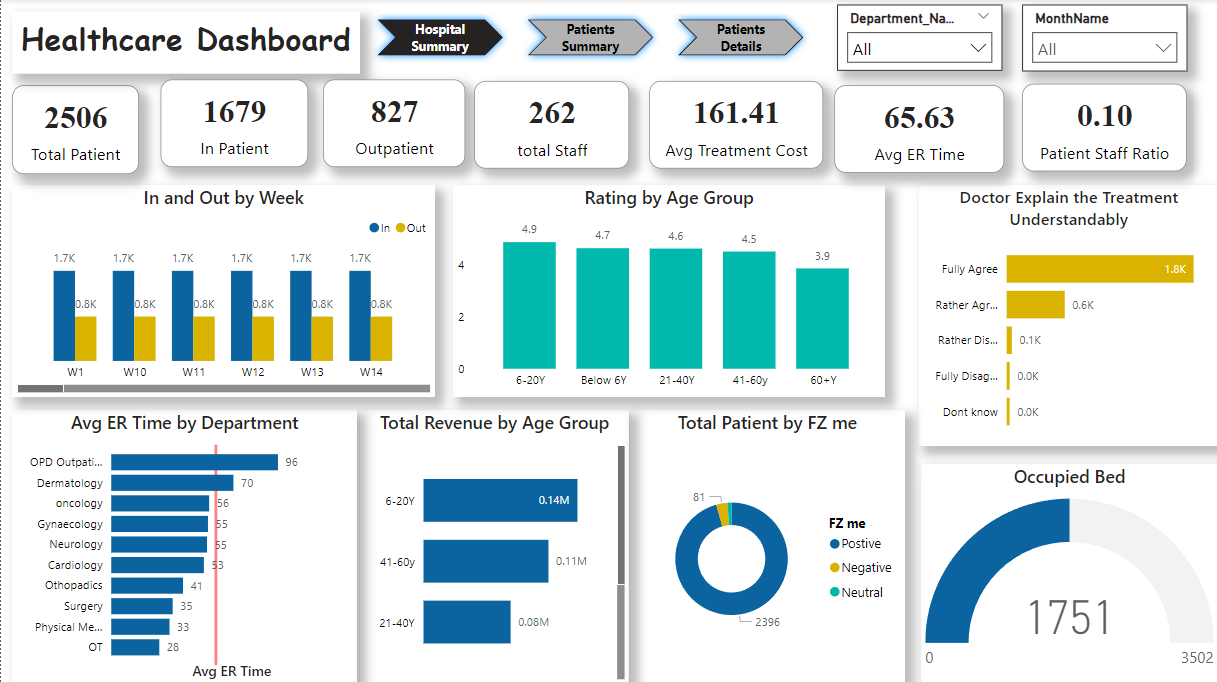

Layout of this report page (visuals, bound fields, positions):
{"tool":"powerbi","page":{"name":"Hospital Summary ","canvas":[1280,720],"ordinal":0},"visuals":[{"type":"cardVisual","fields":{"Data":["Measure.Total Patient"]},"box":[12.3,90.5,133,93.2],"z":1000},{"type":"textbox","box":[11.9,13.4,365.1,65.3],"z":2000},{"type":"slicer","fields":{"Values":["Department.Department_Name"]},"box":[878.9,6.1,173.6,69.7],"z":3000},{"type":"slicer","fields":{"Values":["Calendar_date.MonthName"]},"box":[1073,5.9,173.6,69.8],"z":4000},{"type":"cardVisual","fields":{"Data":["Measure.In Patient"]},"box":[167.3,85,154.9,91.9],"z":5000},{"type":"cardVisual","fields":{"Data":["Measure.Outpatient"]},"box":[338.6,85,149.4,91.9],"z":6000},{"type":"cardVisual","fields":{"Data":["Bed_Detail.total Staff"]},"box":[497.7,86.4,163.2,91.9],"z":7000},{"type":"cardVisual","fields":{"Data":["Measure.Avg Treatment Cost"]},"box":[681.4,86.4,182.3,91.9],"z":8000},{"type":"cardVisual","fields":{"Data":["Measure.Avg ER Time"]},"box":[876.1,90.5,178.2,91.9],"z":9000},{"type":"cardVisual","fields":{"Data":["Bed_Detail.Patient Staff Ratio"]},"box":[1073.5,89.1,172.8,91.9],"z":10000},{"type":"clusteredColumnChart","fields":{"Y":["Calendar_date.In Patient","Calendar_date.Outpatient"],"Category":["Calendar_date.WeekName"]},"box":[12.3,196.1,444.2,222.1],"z":11000},{"type":"barChart","fields":{"Y":["Measure.Avg ER Time"],"Category":["Department.Department_Name"]},"box":[11.9,431.9,362.1,287.9],"z":12000},{"type":"barChart","title":"Doctor Explain the Treatment Understandably","fields":{"Y":["Measure.Total Patient"],"Category":["Detail data dataset.Feedback"]},"box":[964.7,195.9,314.6,273.1],"z":13000},{"type":"columnChart","title":"Rating by Age Group","fields":{"Y":["Measure.Rating"],"Category":["Detail data dataset.Age Bucket"]},"box":[474.9,195.9,454.1,222.6],"z":14000},{"type":"donutChart","fields":{"Y":["Measure.Total Patient"],"Category":["Detail data dataset.FZ me"]},"box":[660.4,431.9,289.4,287.9],"z":15000},{"type":"pageNavigator","box":[387.4,13.4,464.5,54.9],"z":16000},{"type":"gauge","fields":{"Y":["Divide(Measure.Occupied Bed, ScopedEval(Measure.Occupied Bed, []))"]},"box":[966.2,488.3,313.1,231.5],"z":17000},{"type":"clusteredBarChart","title":"Total Revenue by Age Group","fields":{"Y":["Measure.Total Revenue"],"Category":["Detail data dataset.Age Bucket"]},"box":[377,431.9,283.5,287.9],"z":18000}]}

Visuals, with their boxes in screenshot pixels (x1, y1, x2, y2), scaled from the page's 1280x720 canvas onto the 1217x682 screenshot:
cardVisual - Measure.Total Patient: (12,86,138,174)
textbox: (11,13,358,75)
slicer - Department.Department_Name: (836,6,1001,72)
slicer - Calendar_date.MonthName: (1020,6,1185,72)
cardVisual - Measure.In Patient: (159,81,306,168)
cardVisual - Measure.Outpatient: (322,81,464,168)
cardVisual - Bed_Detail.total Staff: (473,82,628,169)
cardVisual - Measure.Avg Treatment Cost: (648,82,821,169)
cardVisual - Measure.Avg ER Time: (833,86,1002,173)
cardVisual - Bed_Detail.Patient Staff Ratio: (1021,84,1185,171)
clusteredColumnChart - Calendar_date.In Patient x Calendar_date.Outpatient: (12,186,434,396)
barChart - Measure.Avg ER Time x Department.Department_Name: (11,409,356,681)
"Doctor Explain the Treatment Understandably" barChart: (917,186,1216,444)
"Rating by Age Group" columnChart: (452,186,883,396)
donutChart - Measure.Total Patient x Detail data dataset.FZ me: (628,409,903,681)
pageNavigator: (368,13,810,65)
gauge - Divide(Measure.Occupied Bed, ScopedEval(Measure.Occupied Bed, [])): (919,463,1216,681)
"Total Revenue by Age Group" clusteredBarChart: (358,409,628,681)
